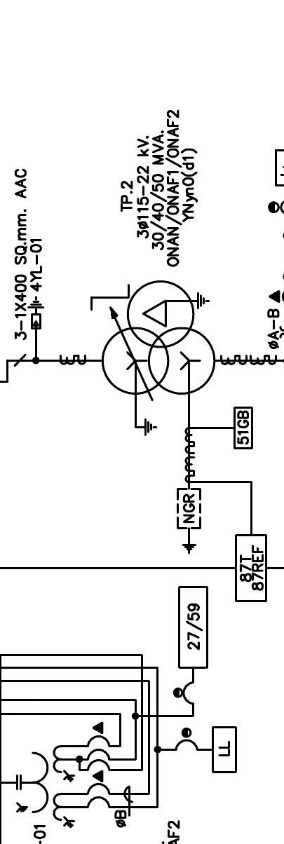11522_tx_ynyn0d1: (101, 280, 216, 397)
115_cvt_3p: (16, 745, 76, 829)
115_la: (27, 295, 45, 330)
LL: (211, 726, 237, 773)
NGR_future: (176, 488, 202, 554)
